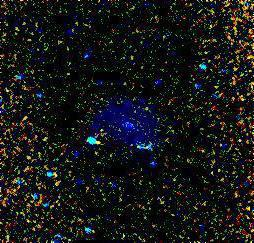star: (82, 128, 112, 158)
